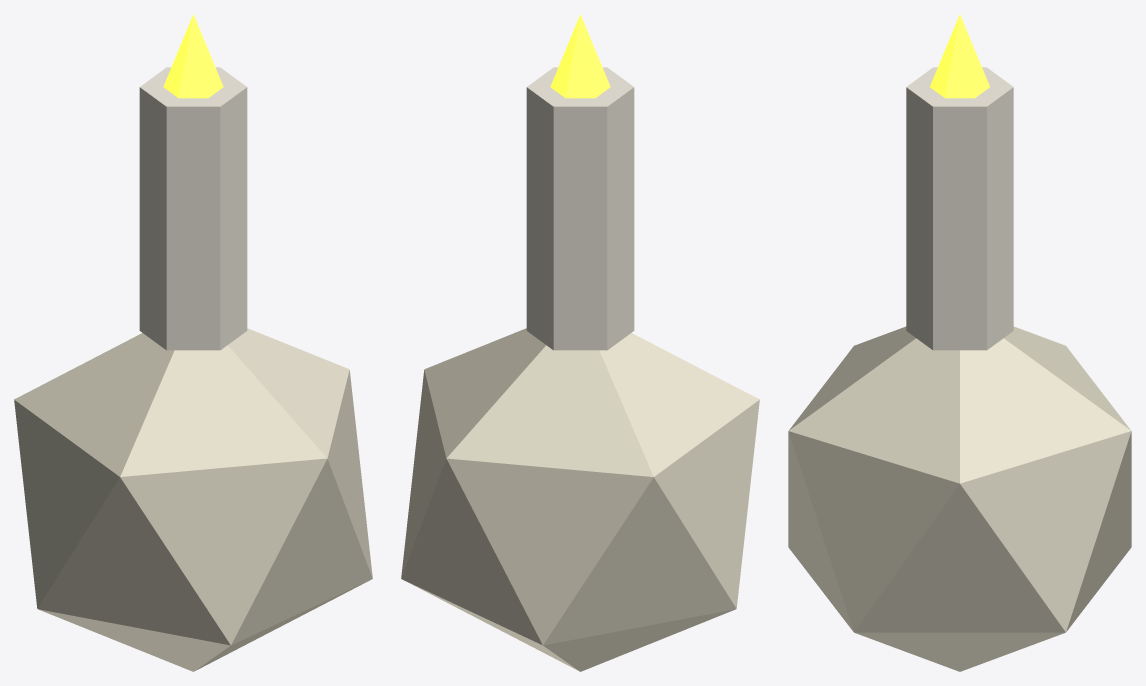
Rendered from candle_skull.glb.
The picture shows the model from 3 angles, left to right: view 1: azimuth 30°, elevation 25°; view 2: azimuth 150°, elevation 25°; view 3: azimuth 270°, elevation 25°; orthographic projection.
Visible parts, largest first — view 1: candle_skull; view 2: candle_skull; view 3: candle_skull.
Boxes of the visible parts, x1=… form: candle_skull: x1=14, y1=14, x2=372, y2=671; candle_skull: x1=401, y1=14, x2=759, y2=671; candle_skull: x1=788, y1=14, x2=1131, y2=671.
Bounding box in the file's own units: 0.2683 × 0.54 × 0.2552.
